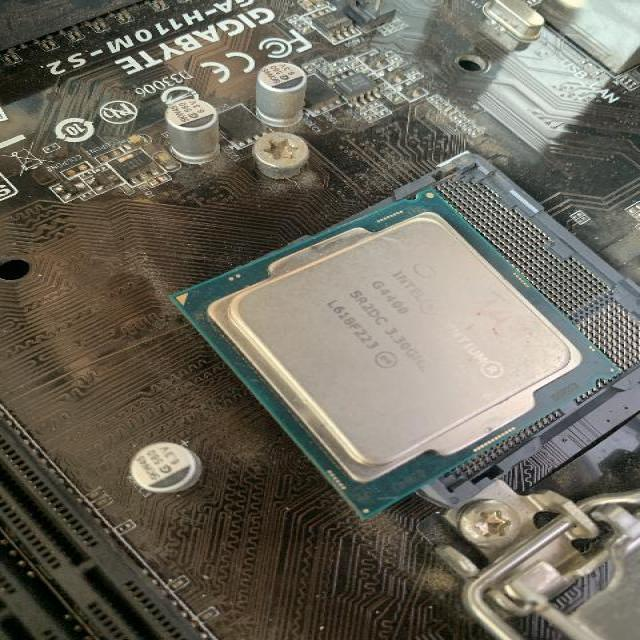CPU: (167, 186, 620, 520)
Mainboard: (0, 0, 640, 640)
